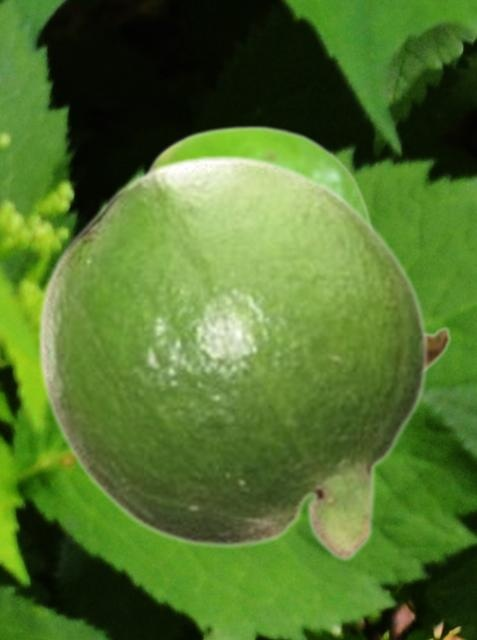guava: (35, 152, 428, 563), (146, 124, 451, 370)
